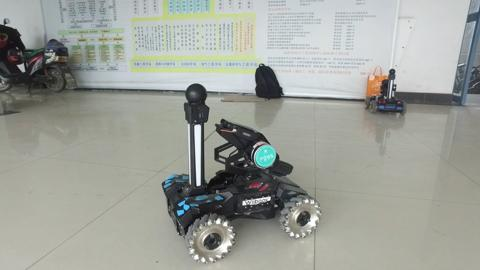bag: (252, 62, 287, 101), (365, 63, 388, 97)
chariot: (161, 81, 323, 263), (362, 68, 408, 116)
